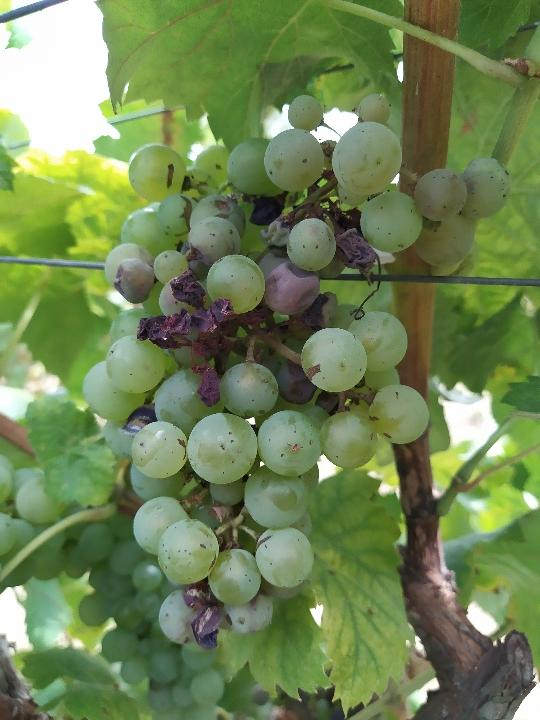grape: (80, 91, 512, 653)
